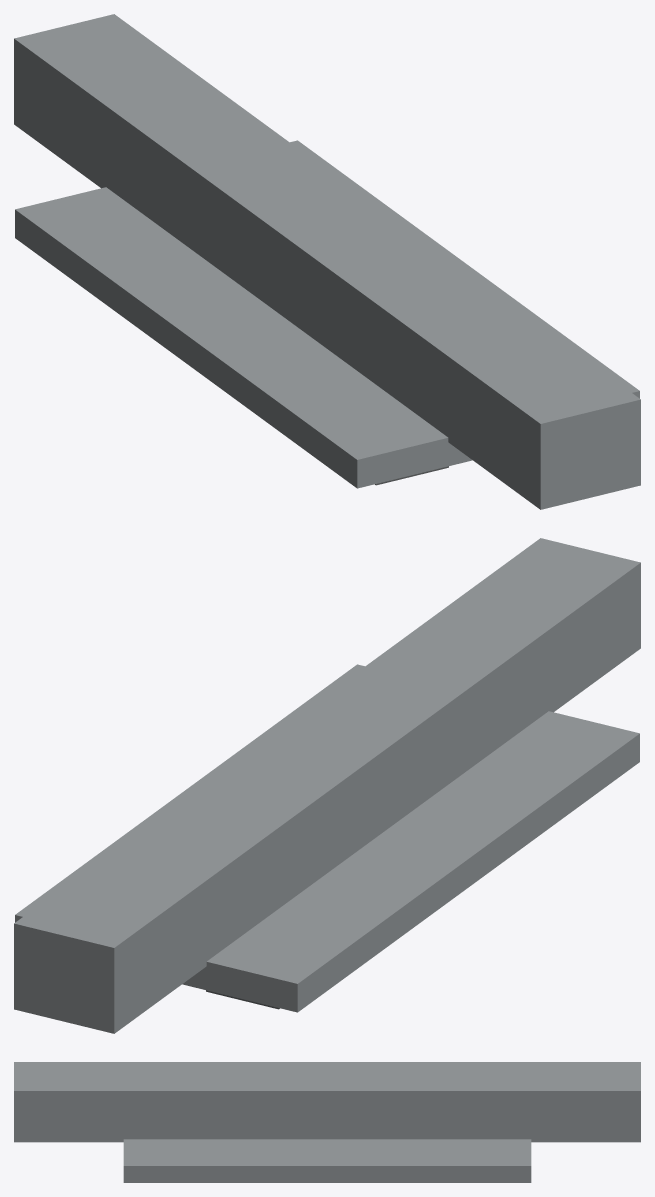
Rendered from bru57.glb.
3 renders of one model, top to bottom at view 1: azimuth 30°, elevation 25°; view 2: azimuth 150°, elevation 25°; view 3: azimuth 270°, elevation 25°, orthographic. The views are drawn at different scales.
Parts seen in each view (by area): view 1: bru57_body; view 2: bru57_body; view 3: bru57_body.
Part boxes in pixels (bbox=[...]): bru57_body: bbox=[14, 14, 640, 509]; bru57_body: bbox=[14, 538, 640, 1033]; bru57_body: bbox=[14, 1062, 640, 1182].
Size of the model in its own units: 0.62 by 0.26 by 2.
Materials: 2 (2 with a texture image).
